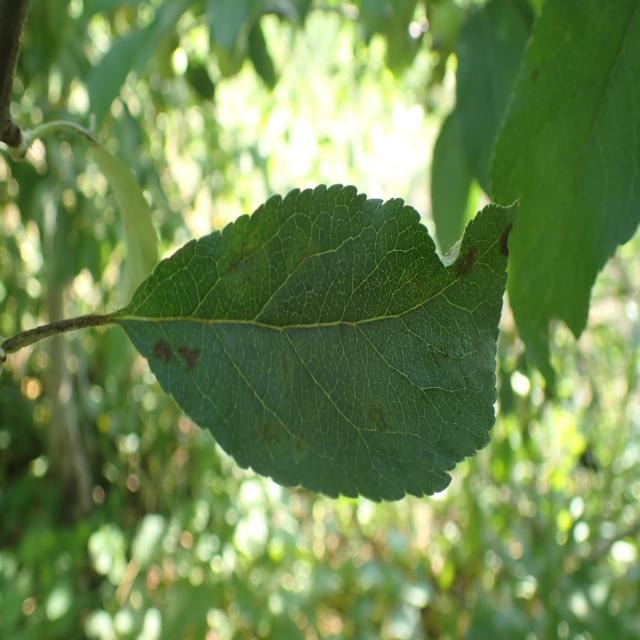scab: (141, 218, 500, 486)
